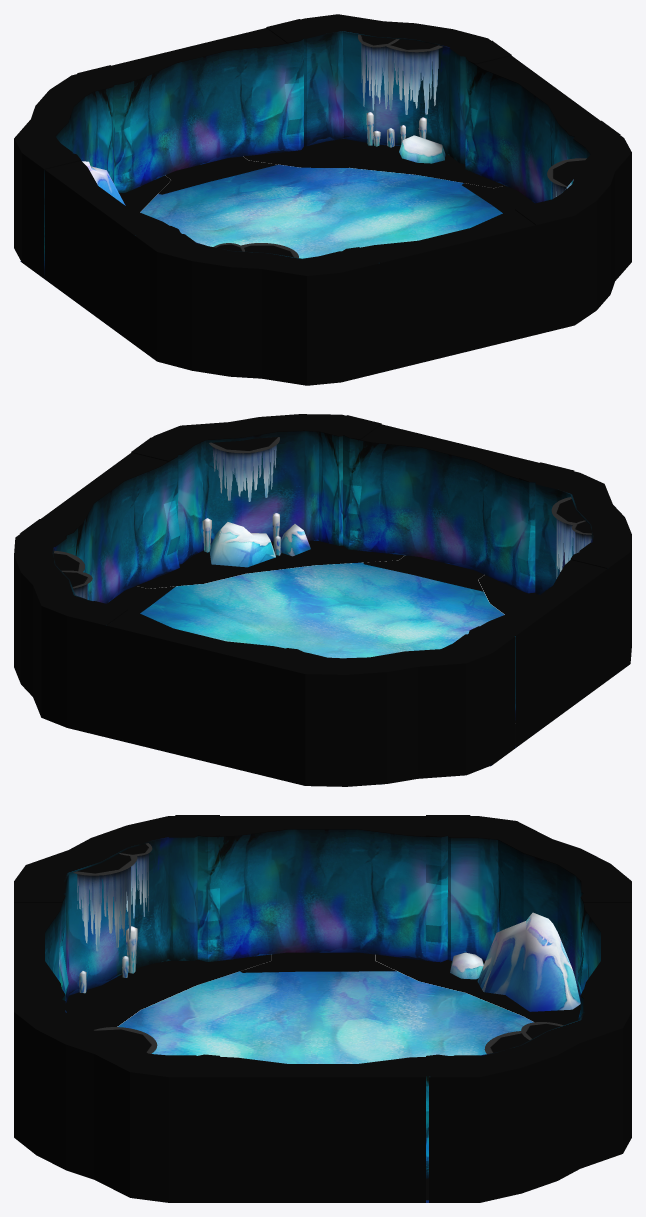
File: Dungeon_072_StartRoom_001_003.fbx
3 renders of one model, top to bottom at view 1: azimuth 30°, elevation 25°; view 2: azimuth 150°, elevation 25°; view 3: azimuth 270°, elevation 25°, orthographic. The views are drawn at different scales.
Parts seen in each view (by area): view 1: Dun_072_Door_002 (×4), Dun_072_StartRoom_001_wall, Dun_072_StartRoom_001_ground, Dun_072_OB_Icicle, Dun_072_StartRoom_001_shadow, Dun_072_Door_002_shadow (×2), Dun_072_OB_Stone01, Dun_072_OB_Ice_crystals01, Dun_072_OB_Stone02; view 2: Dun_072_Door_002 (×4), Dun_072_StartRoom_001_wall, Dun_072_StartRoom_001_ground, Dun_072_OB_Icicle, Dun_072_StartRoom_001_shadow, Dun_072_Door_002_shadow (×2), Dun_072_OB_Stone02, Dun_072_OB_Stone01, Dun_072_OB_Ice_crystals01; view 3: Dun_072_StartRoom_001_wall, Dun_072_Door_002 (×4), Dun_072_StartRoom_001_ground, Dun_072_StartRoom_001_shadow, Dun_072_OB_Stone02, Dun_072_OB_Icicle, Dun_072_Door_002_shadow, Dun_072_OB_Ice_crystals01, Dun_072_OB_Stone01.
Part boxes in pixels (x1=…): Dun_072_Door_002 (×4): x1=26, y1=19, x2=620, y2=372; Dun_072_StartRoom_001_wall: x1=14, y1=14, x2=631, y2=385; Dun_072_StartRoom_001_ground: x1=20, y1=164, x2=502, y2=261; Dun_072_OB_Icicle: x1=213, y1=34, x2=586, y2=257; Dun_072_StartRoom_001_shadow: x1=119, y1=139, x2=504, y2=212; Dun_072_Door_002_shadow (×2): x1=158, y1=156, x2=534, y2=213; Dun_072_OB_Stone01: x1=399, y1=135, x2=445, y2=163; Dun_072_OB_Ice_crystals01: x1=366, y1=112, x2=426, y2=147; Dun_072_OB_Stone02: x1=82, y1=161, x2=125, y2=205; Dun_072_Door_002 (×4): x1=20, y1=415, x2=626, y2=775; Dun_072_StartRoom_001_wall: x1=14, y1=414, x2=631, y2=786; Dun_072_StartRoom_001_ground: x1=140, y1=562, x2=515, y2=766; Dun_072_OB_Icicle: x1=53, y1=437, x2=591, y2=599; Dun_072_StartRoom_001_shadow: x1=136, y1=540, x2=539, y2=745; Dun_072_Door_002_shadow (×2): x1=107, y1=555, x2=484, y2=613; Dun_072_OB_Stone02: x1=209, y1=522, x2=381, y2=784; Dun_072_OB_Stone01: x1=281, y1=524, x2=310, y2=556; Dun_072_OB_Ice_crystals01: x1=202, y1=513, x2=281, y2=555; Dun_072_StartRoom_001_wall: x1=14, y1=816, x2=631, y2=1202; Dun_072_Door_002 (×4): x1=14, y1=815, x2=631, y2=1202; Dun_072_StartRoom_001_ground: x1=118, y1=971, x2=533, y2=1202; Dun_072_StartRoom_001_shadow: x1=65, y1=954, x2=580, y2=1200; Dun_072_OB_Stone02: x1=477, y1=912, x2=580, y2=1011; Dun_072_OB_Icicle: x1=73, y1=843, x2=563, y2=1053; Dun_072_Door_002_shadow: x1=240, y1=952, x2=396, y2=972; Dun_072_OB_Ice_crystals01: x1=79, y1=926, x2=137, y2=993; Dun_072_OB_Stone01: x1=450, y1=952, x2=483, y2=979.
Size of what is drawn, in the model's own units: 9 by 2.05 by 9.
